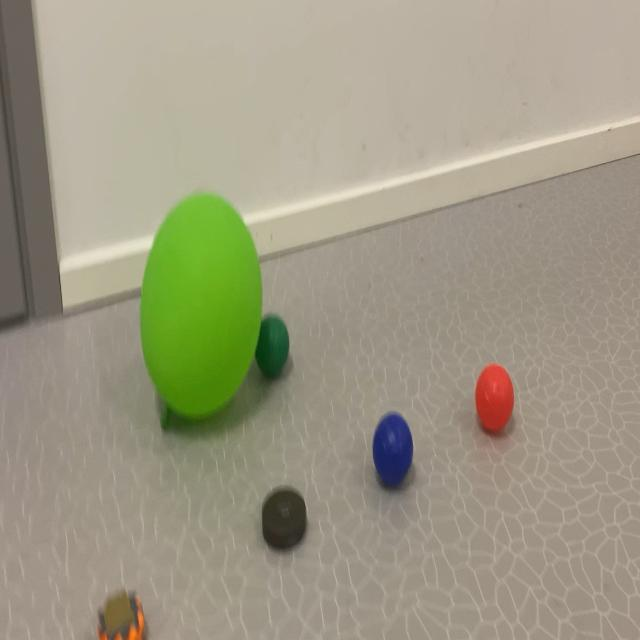blue ball: (372, 414, 419, 494)
green ball: (266, 308, 293, 384)
red ball: (472, 363, 518, 441)
